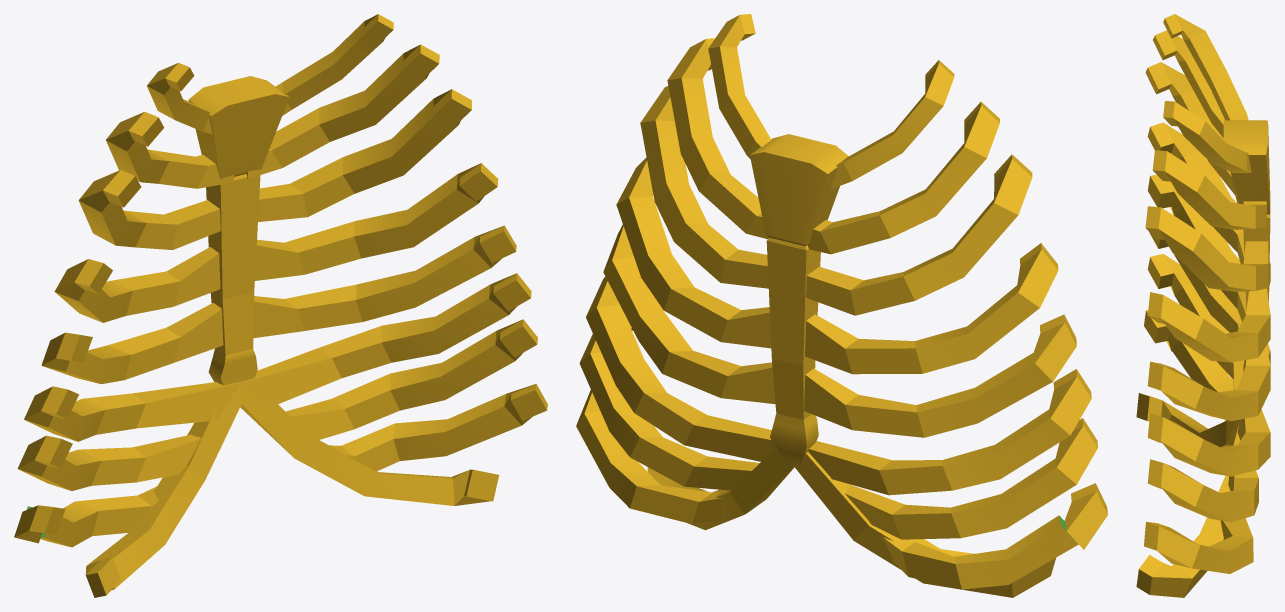
Rendered from Cage_Thoracique.fbx.
The picture shows the model from 3 angles, left to right: view 1: azimuth 30°, elevation 25°; view 2: azimuth 150°, elevation 25°; view 3: azimuth 270°, elevation 25°; orthographic projection. The views are drawn at different scales.
Visible parts, largest first — view 1: Cage_Thoracique_Origin, Sternum, Sternum_Bottom, Cote_TOP_L, Cote_04_R, Cote_TOP_R, Cote_05_R, Cote_03_R, Cote_02_R, Cote_06_R, Cote_01_R, Cote_07_R (+12 smaller); view 2: Cage_Thoracique_Origin, Sternum, Sternum_Bottom, Cote_05_L, Cote_06_L, Cote_TOP_R, Cote_05_R, Cote_04_L, Cote_04_R, Cote_06_R, Cote_TOP_L, Cote_03_L (+12 smaller); view 3: Cage_Thoracique_Origin, Sternum_Bottom, Cote_05_R, Cote_06_R, Cote_04_R, Cote_03_R, Cote_07_R, Cote_01_R, Cote_08_L, Cote_02_R, Sternum, Cote_08_R (+11 smaller).
Boxes of the visible parts, x1,y1,x2,y2 form: Cage_Thoracique_Origin: [14, 14, 547, 597]; Sternum: [164, 175, 307, 362]; Sternum_Bottom: [188, 76, 289, 188]; Cote_TOP_L: [133, 382, 241, 482]; Cote_04_R: [284, 237, 490, 330]; Cote_TOP_R: [239, 348, 354, 458]; Cote_05_R: [284, 174, 478, 274]; Cote_03_R: [318, 285, 508, 377]; Cote_02_R: [331, 331, 514, 428]; Cote_06_R: [290, 99, 457, 216]; Cote_01_R: [341, 394, 521, 471]; Cote_07_R: [269, 53, 426, 167]; Cage_Thoracique_Origin: [576, 14, 1107, 597]; Sternum: [720, 241, 863, 429]; Sternum_Bottom: [746, 134, 848, 254]; Cote_05_L: [845, 353, 1052, 437]; Cote_06_L: [845, 285, 1039, 374]; Cote_TOP_R: [684, 415, 795, 513]; Cote_05_R: [616, 196, 741, 341]; Cote_04_L: [879, 409, 1069, 495]; Cote_04_R: [603, 256, 741, 397]; Cote_06_R: [640, 120, 738, 282]; Cote_TOP_L: [791, 441, 904, 540]; Cote_03_L: [892, 458, 1076, 539]; Cage_Thoracique_Origin: [1136, 14, 1205, 597]; Sternum_Bottom: [1223, 120, 1270, 217]; Cote_05_R: [1175, 315, 1270, 362]; Cote_06_R: [1173, 233, 1268, 291]; Cote_04_R: [1178, 365, 1270, 421]; Cote_03_R: [1175, 432, 1270, 476]; Cote_07_R: [1178, 175, 1266, 229]; Cote_01_R: [1192, 518, 1253, 573]; Cote_08_L: [1184, 31, 1248, 120]; Cote_02_R: [1176, 478, 1258, 522]; Sternum: [1243, 218, 1270, 366]; Cote_08_R: [1184, 121, 1251, 172].
Size of the model in its own units: 7.81 by 7.39 by 1.95.
